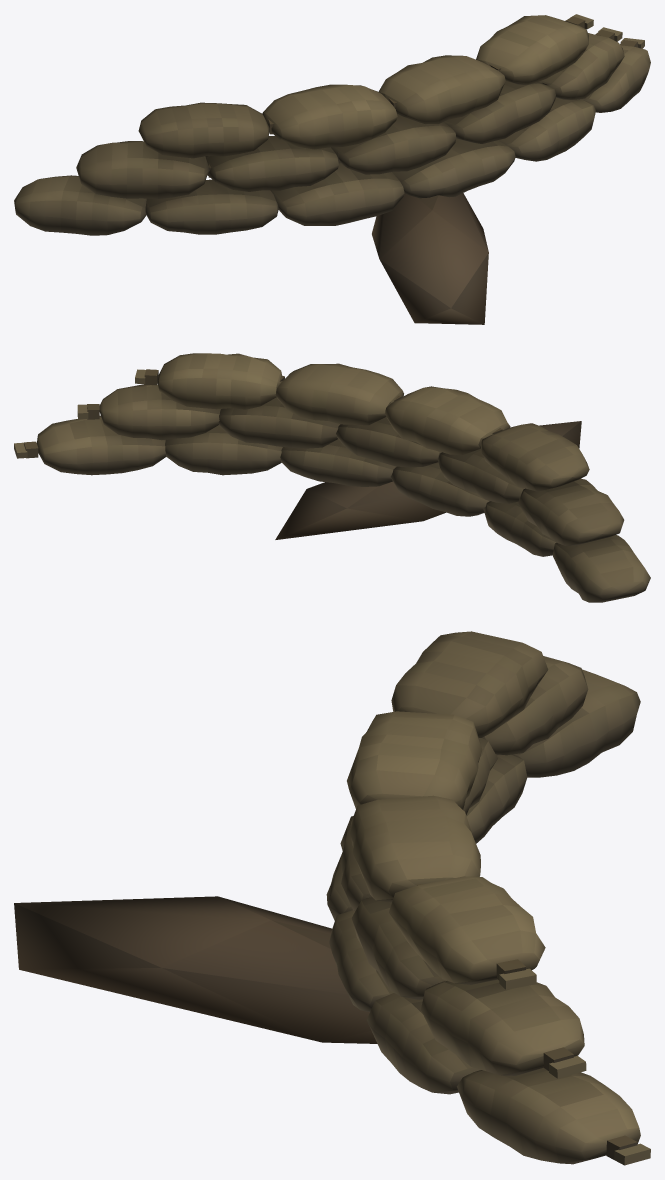
The model's file is breastwork.glb.
3 views of the same model, one above another, from view 1: azimuth 30°, elevation 25°; view 2: azimuth 150°, elevation 25°; view 3: azimuth 270°, elevation 25° (orthographic). The views are drawn at different scales.
Visible parts, largest first — view 1: sand-bags-001, sand-002; view 2: sand-bags-001, sand-002; view 3: sand-bags-001, sand-002.
Part boxes in pixels (box(x1,y1,x2,y2)): sand-bags-001: box(14, 14, 650, 235); sand-002: box(372, 193, 488, 324); sand-bags-001: box(14, 353, 650, 602); sand-002: box(275, 421, 581, 539); sand-bags-001: box(326, 631, 650, 1165); sand-002: box(14, 896, 377, 1043).
Size of the model in its own units: 3.41 by 0.8109 by 1.9.
